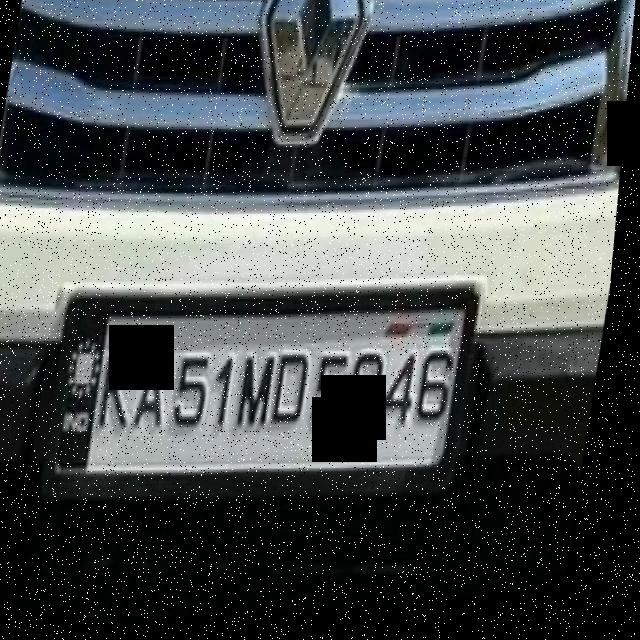1: (213, 353, 249, 439)
4: (386, 356, 431, 442)
5: (177, 345, 223, 440), (314, 350, 360, 440)
6: (418, 348, 466, 443)
9: (349, 351, 397, 444)
A: (137, 345, 185, 441)
D: (274, 347, 325, 442)
K: (93, 345, 149, 451)
M: (237, 348, 290, 453)
